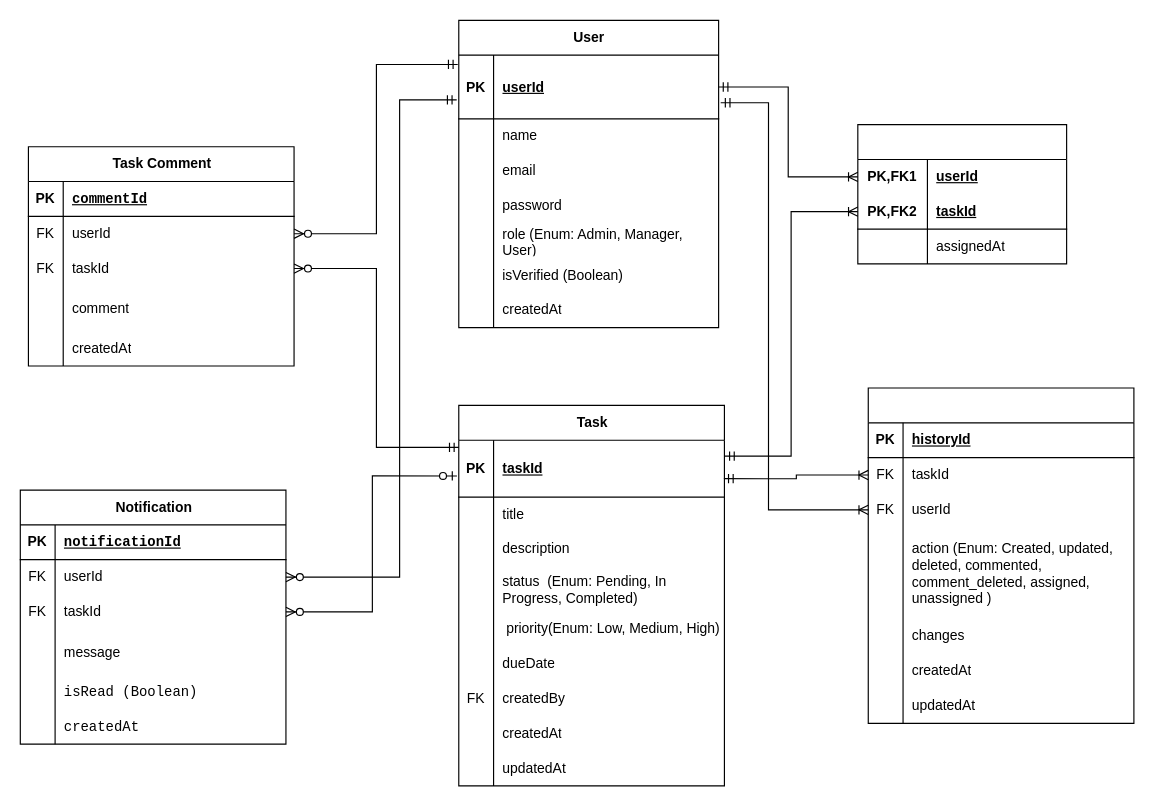
Some shapes in this 1154 by 806 pixel diagram are drawn without their labels. Here are the shapes that lost their labels. From the top down, the box of each, then its label:
(857, 124, 1067, 264): User_Tasks
(867, 387, 1134, 723): Task History
